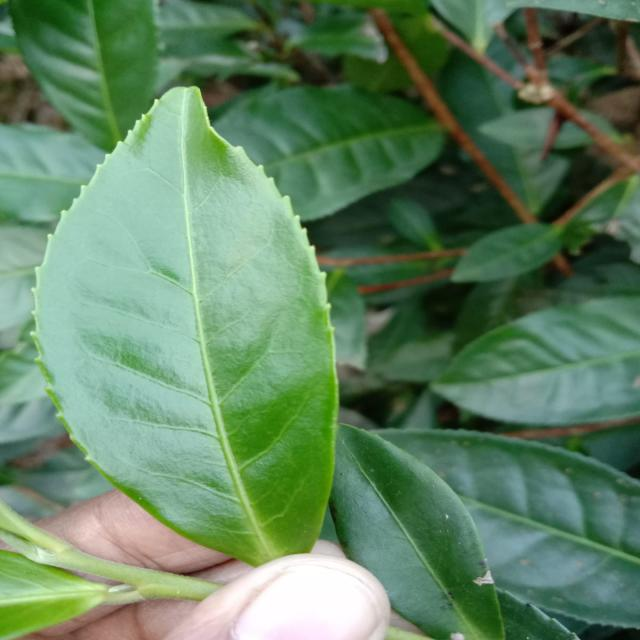Category C(4-7 days): (18, 71, 401, 562)
